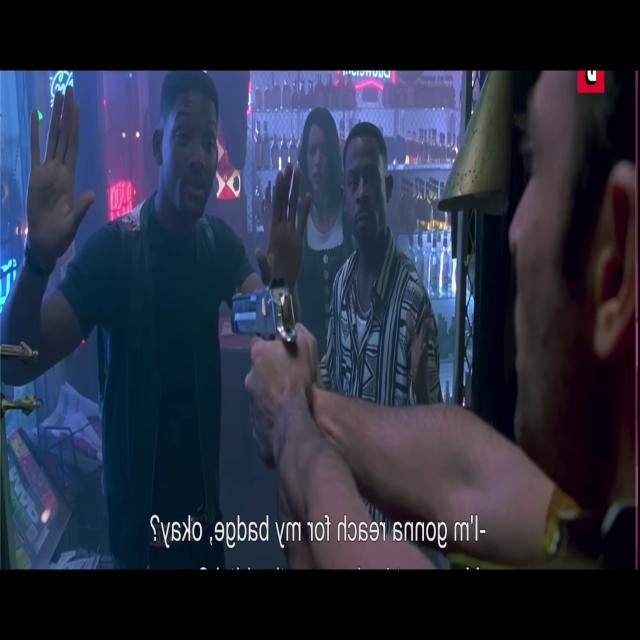weapons: (224, 260, 326, 430)
